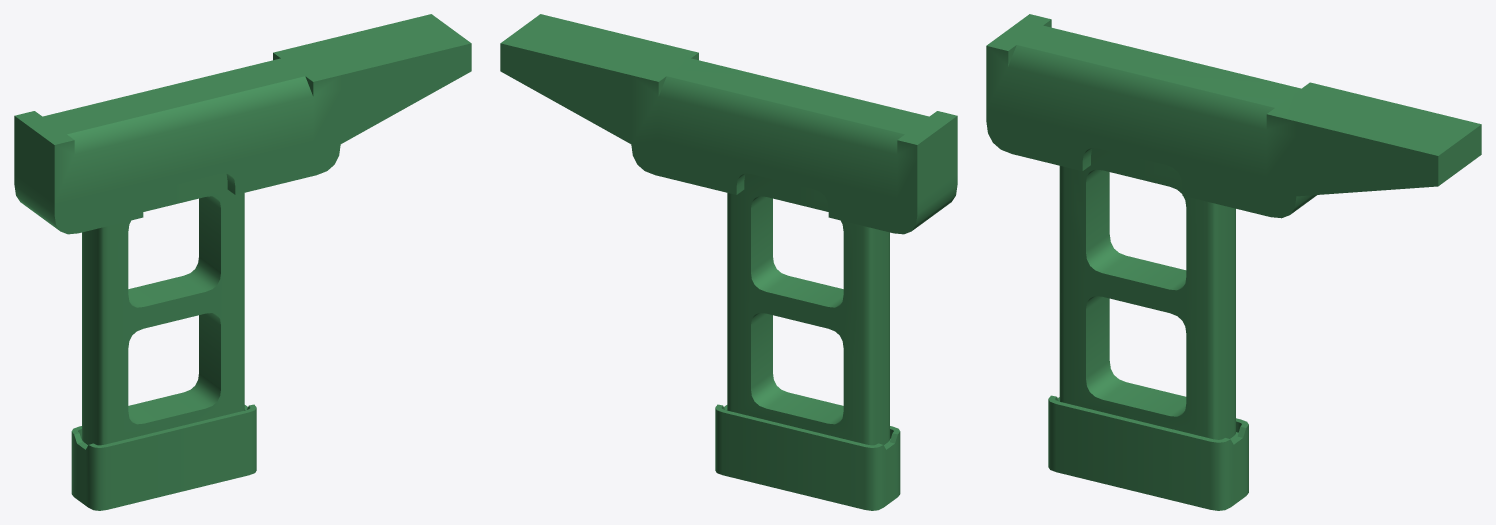
Rendered from Column_UnderFloor.FBX.
The picture shows the model from 3 angles, left to right: view 1: azimuth 30°, elevation 25°; view 2: azimuth 150°, elevation 25°; view 3: azimuth 330°, elevation 25°; orthographic projection. The views are drawn at different scales.
Visible parts, largest first — view 1: Column_UnderFloor; view 2: Column_UnderFloor; view 3: Column_UnderFloor.
Boxes of the visible parts, box(x1,y1,x2,y2) form: Column_UnderFloor: box(14, 14, 471, 510); Column_UnderFloor: box(500, 14, 957, 510); Column_UnderFloor: box(986, 14, 1481, 510).
Bounding box in the file's own units: 242 × 212 × 40.22.
